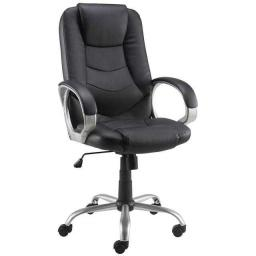Chair: (57, 7, 197, 253)
